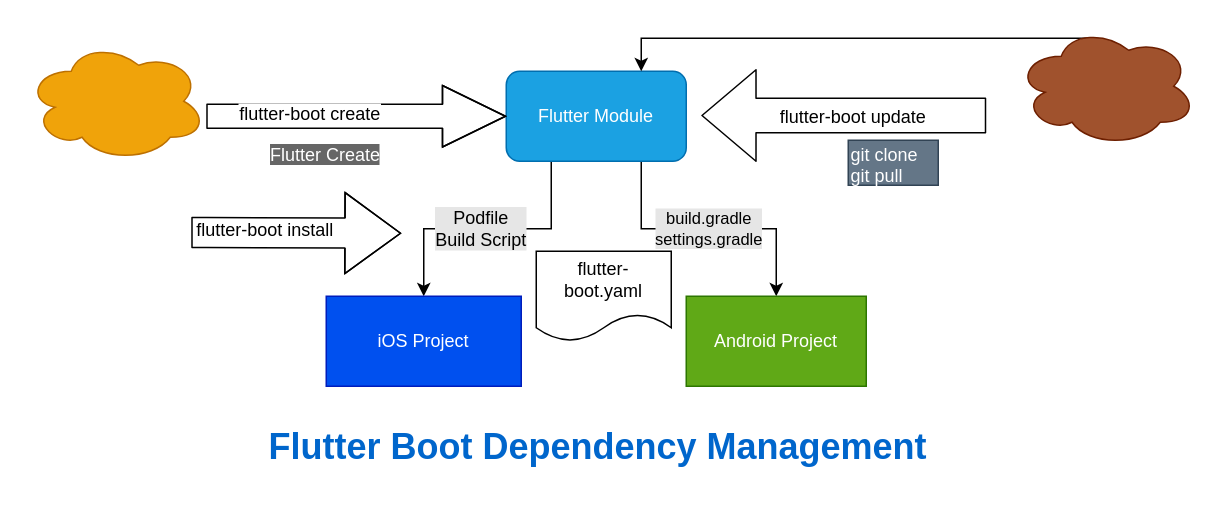
The diagram is 1223 pixels wide and 521 high, and some of its shapes have lost their labels. The shapes that lost their labels are listed below. From the top down, each one's box as (x1, y1, x2, y2) in pixels, then its label:
(25, 40, 206, 161): Code Templates
(1015, 25, 1196, 146): Git Repo Host
